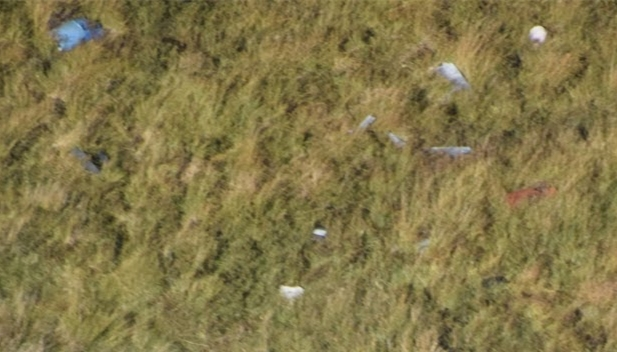scattered_barrel: (322, 11, 560, 171), (265, 106, 412, 310)
white_in_green: (53, 123, 141, 192), (32, 1, 120, 69)
